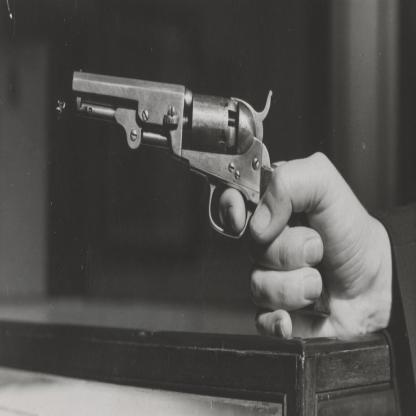Handgun: (72, 69, 331, 316)
